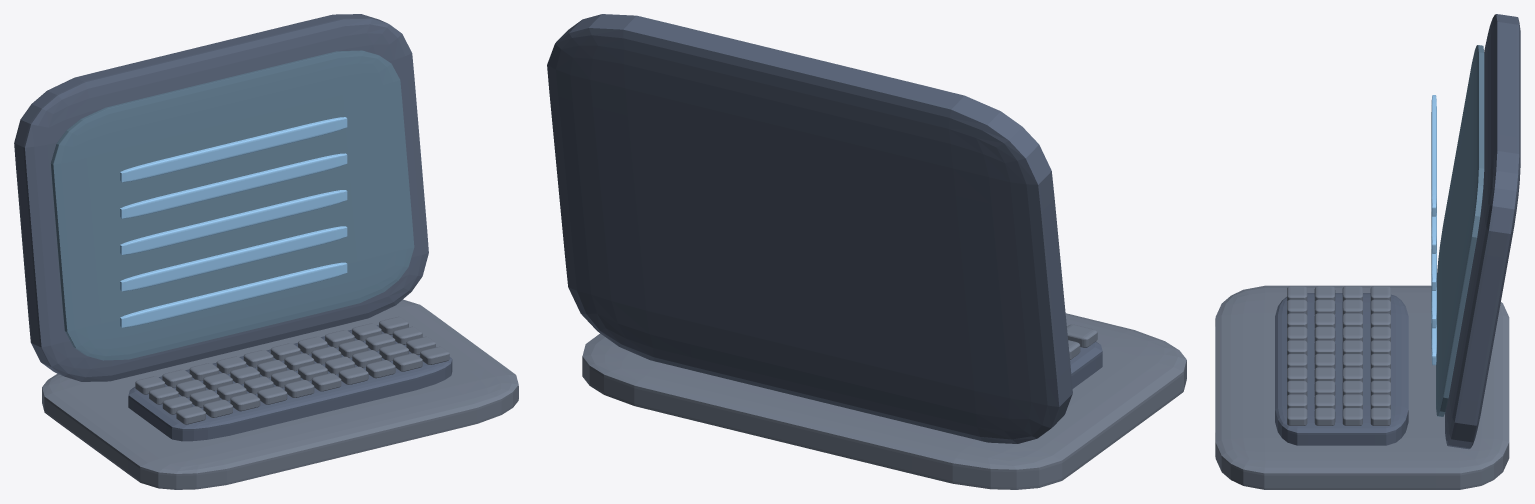
The model's file is laptop.glb.
The picture shows the model from 3 angles, left to right: view 1: azimuth 30°, elevation 25°; view 2: azimuth 150°, elevation 25°; view 3: azimuth 270°, elevation 25°; orthographic projection. The views are drawn at different scales.
Parts seen in each view (by area): view 1: screen, lid, base, keyboard/base, ui3, ui4, ui0, ui1, ui2; view 2: lid, base, keyboard/base; view 3: base, lid, screen, keyboard/base, ui0, keyboard/key1_9, keyboard/key0_9, keyboard/key2_9, keyboard/key3_9.
Part boxes in pixels (left/top/right/bottom): screen: left=51, top=50, right=414, bottom=360; lid: left=14, top=14, right=428, bottom=381; base: left=42, top=299, right=518, bottom=489; keyboard/base: left=128, top=325, right=452, bottom=441; ui3: left=120, top=226, right=347, bottom=291; ui4: left=120, top=262, right=347, bottom=327; ui0: left=120, top=117, right=347, bottom=182; ui1: left=120, top=153, right=347, bottom=218; ui2: left=120, top=190, right=347, bottom=254; lid: left=547, top=14, right=1072, bottom=443; base: left=582, top=313, right=1186, bottom=489; keyboard/base: left=1070, top=341, right=1102, bottom=388; base: left=1215, top=285, right=1509, bottom=489; lid: left=1445, top=14, right=1520, bottom=449; screen: left=1436, top=45, right=1484, bottom=416; keyboard/base: left=1275, top=293, right=1408, bottom=445; ui0: left=1431, top=95, right=1436, bottom=216; keyboard/key1_9: left=1314, top=408, right=1335, bottom=425; keyboard/key0_9: left=1287, top=408, right=1307, bottom=425; keyboard/key2_9: left=1342, top=408, right=1362, bottom=425; keyboard/key3_9: left=1370, top=408, right=1390, bottom=425.
Size of the model in its own units: 0.67 by 0.5064 by 0.4464.
